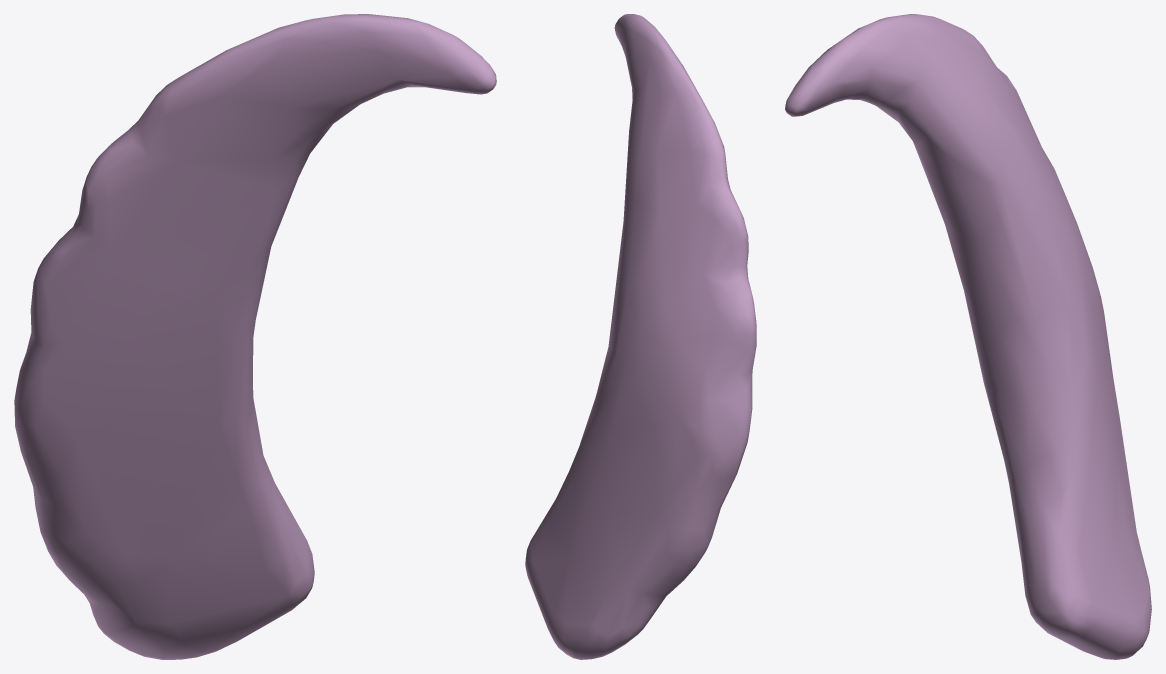
3 renders of one model, left to right at view 1: azimuth 30°, elevation 25°; view 2: azimuth 150°, elevation 25°; view 3: azimuth 270°, elevation 25°, orthographic. The views are drawn at different scales.
Parts seen in each view (by area): view 1: 右侧海马; view 2: 右侧海马; view 3: 右侧海马.
Boxes of the visible parts, x1,y1,x2,y2 form: 右侧海马: [14, 14, 496, 659]; 右侧海马: [525, 14, 756, 659]; 右侧海马: [785, 14, 1151, 659].
Size of the model in its own units: 0.0286 by 0.0613 by 0.0314.
